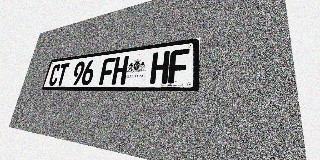6: (80, 60, 96, 85)
9: (71, 61, 86, 85)
C: (48, 64, 61, 86)
F: (168, 48, 189, 84), (99, 57, 116, 85)
H: (150, 51, 170, 84), (111, 56, 129, 85)
T: (56, 63, 70, 86)
